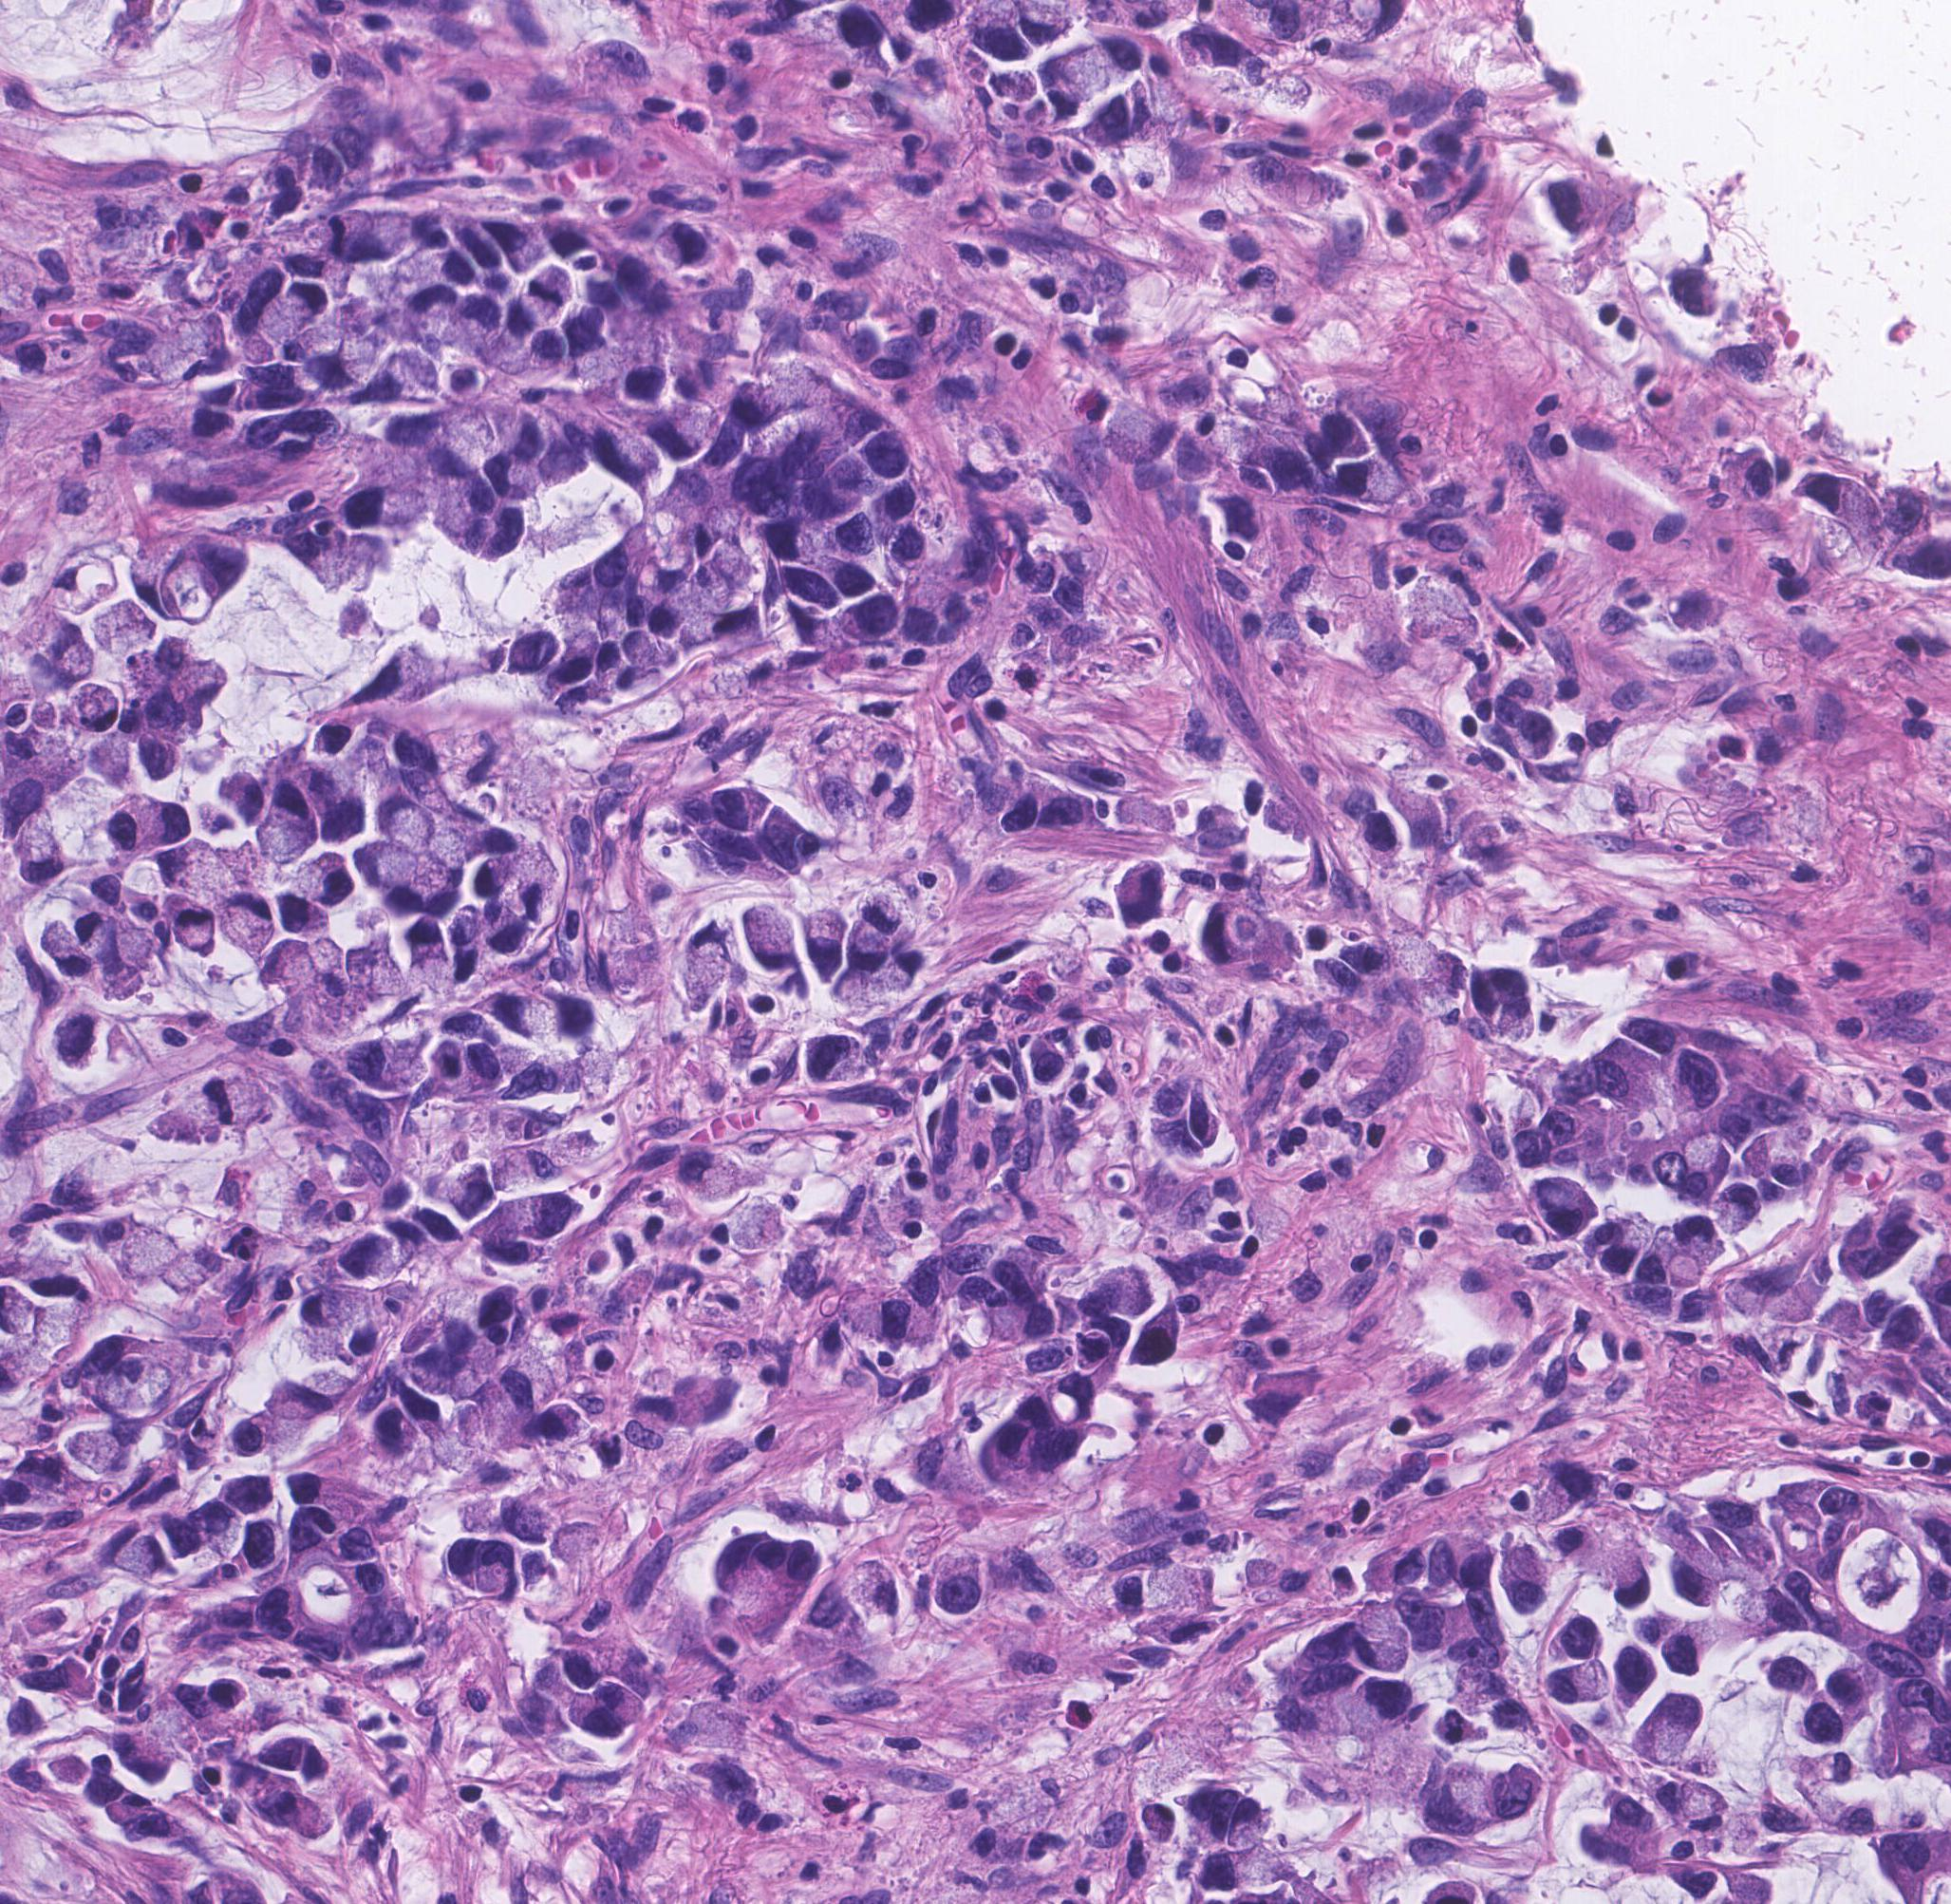ring_cell_cancer: (1808, 467, 1892, 537), (673, 922, 736, 1010), (291, 1559, 366, 1630), (178, 1083, 267, 1140), (1541, 164, 1615, 232), (338, 478, 429, 530), (164, 558, 232, 626), (506, 1184, 591, 1238), (598, 422, 666, 485), (1358, 1613, 1421, 1681), (1505, 1538, 1553, 1622), (1109, 401, 1175, 462), (1531, 1175, 1595, 1236), (846, 1557, 907, 1620), (1203, 903, 1268, 962), (16, 821, 71, 884), (750, 907, 802, 973), (356, 1041, 424, 1091), (166, 896, 220, 959), (1648, 1690, 1700, 1752), (352, 846, 418, 894), (1686, 1775, 1735, 1841), (119, 1222, 180, 1275), (1346, 459, 1412, 506), (1602, 1555, 1656, 1613), (300, 858, 361, 908), (66, 1426, 126, 1477), (809, 905, 851, 976), (441, 1163, 499, 1214), (471, 1543, 520, 1602), (678, 1153, 743, 1196), (532, 262, 581, 319), (49, 560, 119, 600), (68, 683, 122, 734), (652, 220, 708, 269), (300, 1283, 357, 1330), (1761, 1658, 1820, 1703), (42, 929, 94, 980), (279, 282, 331, 333), (1499, 1768, 1545, 1826), (1609, 1646, 1655, 1703), (1547, 1663, 1608, 1705), (378, 802, 432, 849), (228, 894, 274, 949), (277, 891, 328, 936), (141, 800, 194, 844), (164, 1250, 216, 1294), (561, 626, 600, 685), (227, 772, 269, 826), (126, 1538, 167, 1592), (258, 950, 314, 990), (553, 1522, 600, 1567), (1660, 1252, 1710, 1294), (851, 928, 891, 980), (272, 1386, 338, 1418), (633, 1390, 678, 1435), (1139, 1803, 1180, 1852), (305, 933, 345, 983), (865, 881, 905, 929), (476, 854, 516, 896), (544, 1398, 588, 1437), (58, 643, 98, 683), (614, 629, 657, 666), (382, 1609, 425, 1644)
